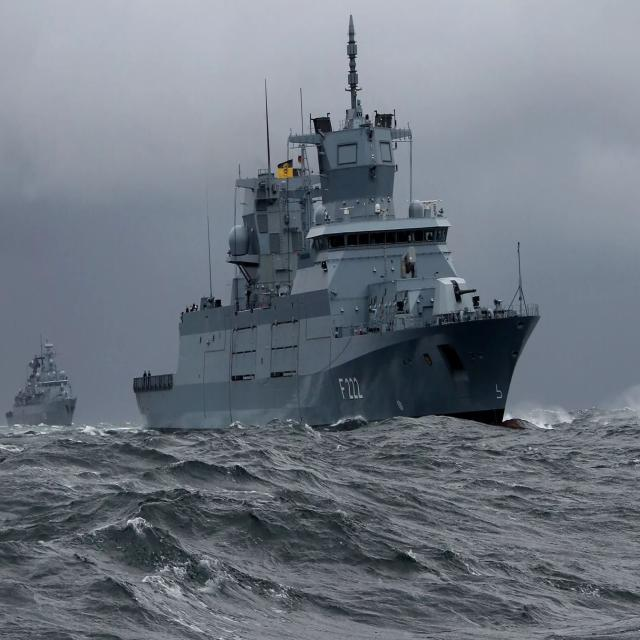Fragata: (1, 11, 335, 448), (3, 328, 85, 435)
